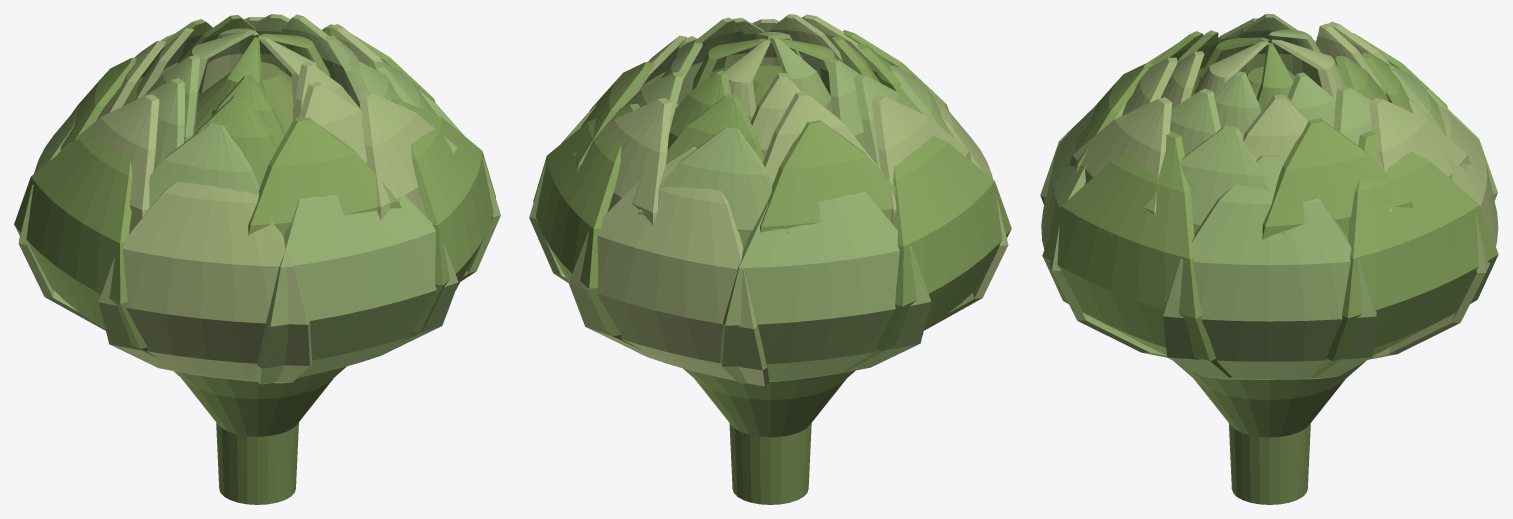
3 renders of one model, left to right at view 1: azimuth 30°, elevation 25°; view 2: azimuth 150°, elevation 25°; view 3: azimuth 270°, elevation 25°, orthographic.
Parts seen in each view (by area): view 1: WholeCuppedFleshyBract_01_06, WholeCuppedFleshyBract_01_07, WholeCuppedFleshyBract_01_05, WholeStalkAndEnclosedReceptacle, WholeCuppedFleshyBract_01_08, WholeCuppedFleshyBract_02_07, WholeCuppedFleshyBract_02_08, WholeCuppedFleshyBract_02_06, WholeCuppedFleshyBract_02_05, WholeCuppedFleshyBract_03_06, WholeCuppedFleshyBract_03_07, WholeCuppedFleshyBract_03_05 (+21 smaller); view 2: WholeCuppedFleshyBract_01_04, WholeCuppedFleshyBract_01_03, WholeCuppedFleshyBract_01_05, WholeStalkAndEnclosedReceptacle, WholeCuppedFleshyBract_01_02, WholeCuppedFleshyBract_02_04, WholeCuppedFleshyBract_02_03, WholeCuppedFleshyBract_02_02, WholeCuppedFleshyBract_02_05, WholeCuppedFleshyBract_03_04, WholeCuppedFleshyBract_03_03, WholeCuppedFleshyBract_01_06 (+21 smaller); view 3: WholeCuppedFleshyBract_01_01, WholeCuppedFleshyBract_01_08, WholeCuppedFleshyBract_01_02, WholeStalkAndEnclosedReceptacle, WholeCuppedFleshyBract_02_01, WholeCuppedFleshyBract_01_03, WholeCuppedFleshyBract_02_08, WholeCuppedFleshyBract_02_09, WholeCuppedFleshyBract_01_07, WholeCuppedFleshyBract_02_02, WholeCuppedFleshyBract_03_01, WholeCuppedFleshyBract_03_08 (+19 smaller).
Boxes of the visible parts, x1,y1,x2,y2 form: WholeCuppedFleshyBract_01_06: (98, 181, 312, 383); WholeCuppedFleshyBract_01_07: (256, 190, 458, 384); WholeCuppedFleshyBract_01_05: (14, 132, 158, 358); WholeStalkAndEnclosedReceptacle: (173, 62, 346, 504); WholeCuppedFleshyBract_01_08: (391, 99, 495, 342); WholeCuppedFleshyBract_02_07: (248, 117, 401, 236); WholeCuppedFleshyBract_02_08: (359, 91, 458, 220); WholeCuppedFleshyBract_02_06: (149, 123, 259, 208); WholeCuppedFleshyBract_02_05: (58, 94, 159, 232); WholeCuppedFleshyBract_03_06: (196, 95, 277, 187); WholeCuppedFleshyBract_03_07: (299, 82, 367, 164); WholeCuppedFleshyBract_03_05: (137, 78, 184, 170); WholeCuppedFleshyBract_01_04: (720, 191, 931, 383); WholeCuppedFleshyBract_01_03: (569, 147, 769, 385); WholeCuppedFleshyBract_01_05: (845, 135, 1011, 371); WholeStalkAndEnclosedReceptacle: (683, 65, 855, 504); WholeCuppedFleshyBract_01_02: (533, 103, 641, 349); WholeCuppedFleshyBract_02_04: (760, 120, 908, 232); WholeCuppedFleshyBract_02_03: (637, 127, 788, 248); WholeCuppedFleshyBract_02_02: (572, 97, 671, 225); WholeCuppedFleshyBract_02_05: (871, 95, 971, 224); WholeCuppedFleshyBract_03_04: (763, 91, 878, 183); WholeCuppedFleshyBract_03_03: (666, 94, 763, 163); WholeCuppedFleshyBract_01_06: (924, 88, 1008, 330); WholeCuppedFleshyBract_01_01: (1163, 155, 1376, 379); WholeCuppedFleshyBract_01_08: (1042, 131, 1231, 377); WholeCuppedFleshyBract_01_02: (1310, 130, 1498, 377); WholeStalkAndEnclosedReceptacle: (1174, 66, 1365, 504); WholeCuppedFleshyBract_02_01: (1262, 118, 1413, 239); WholeCuppedFleshyBract_01_03: (1368, 99, 1498, 359); WholeCuppedFleshyBract_02_08: (1069, 97, 1172, 215); WholeCuppedFleshyBract_02_09: (1179, 125, 1285, 234); WholeCuppedFleshyBract_01_07: (1041, 102, 1167, 357); WholeCuppedFleshyBract_02_02: (1369, 97, 1470, 213); WholeCuppedFleshyBract_03_01: (1243, 95, 1309, 161); WholeCuppedFleshyBract_03_08: (1170, 88, 1220, 155).
Bounding box in the file's own units: 0.145 × 0.1578 × 0.1448.
